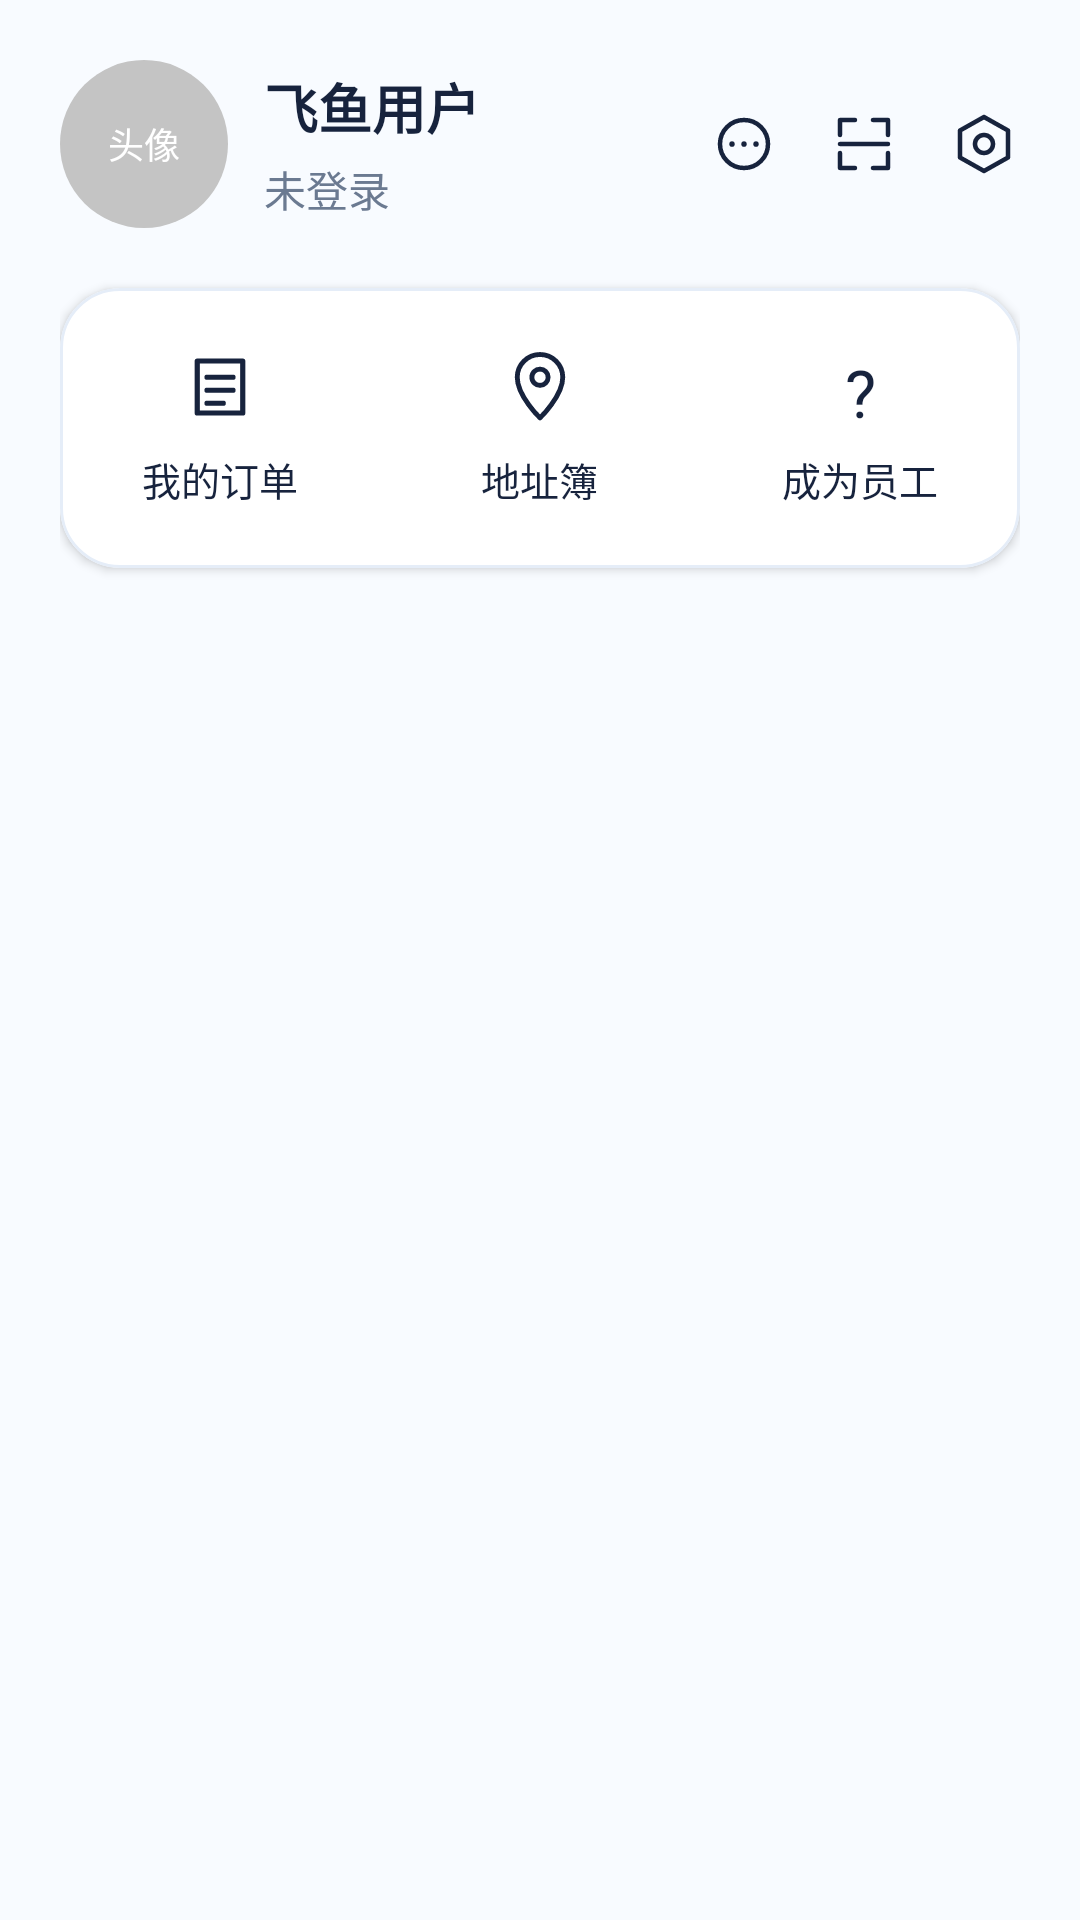

Named icons in this screenshot (1080px x 1920px) and their bounding boxes, box=[x1, y1, x2, y2]:
扫一扫: box=[837, 117, 891, 171]
设置: box=[957, 114, 1011, 174]
